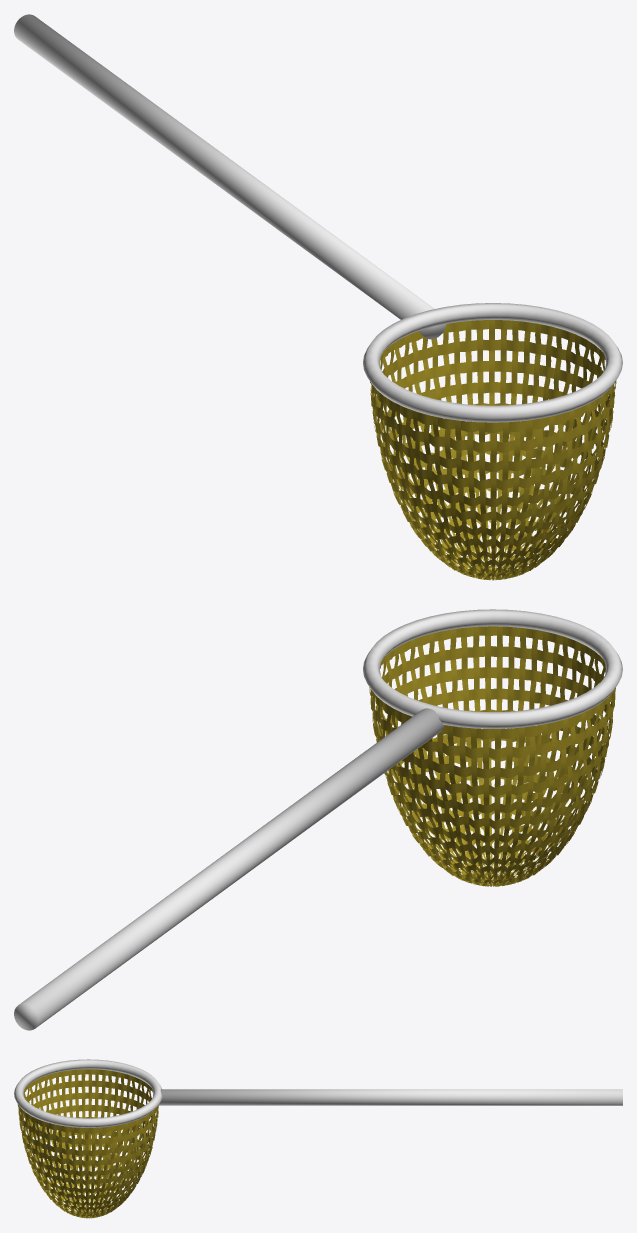
The model's file is Sachok.fbx.
3 views of the same model, one above another, from view 1: azimuth 30°, elevation 25°; view 2: azimuth 150°, elevation 25°; view 3: azimuth 270°, elevation 25° (orthographic). The views are drawn at different scales.
Parts seen in each view (by area): view 1: Tessellation, Cylinder, Torus.002; view 2: Tessellation, Cylinder, Torus.002; view 3: Tessellation, Cylinder, Torus.002.
Boxes of the visible parts, x1,y1,x2,y2 form: Tessellation: [370, 320, 616, 580]; Cylinder: [14, 14, 446, 339]; Torus.002: [363, 303, 622, 422]; Tessellation: [369, 626, 615, 886]; Cylinder: [14, 708, 444, 1030]; Torus.002: [363, 609, 622, 728]; Tessellation: [17, 1069, 158, 1218]; Cylinder: [158, 1089, 622, 1105]; Torus.002: [14, 1059, 162, 1127].
Bounding box in the file's own units: 214 × 197 × 874.
